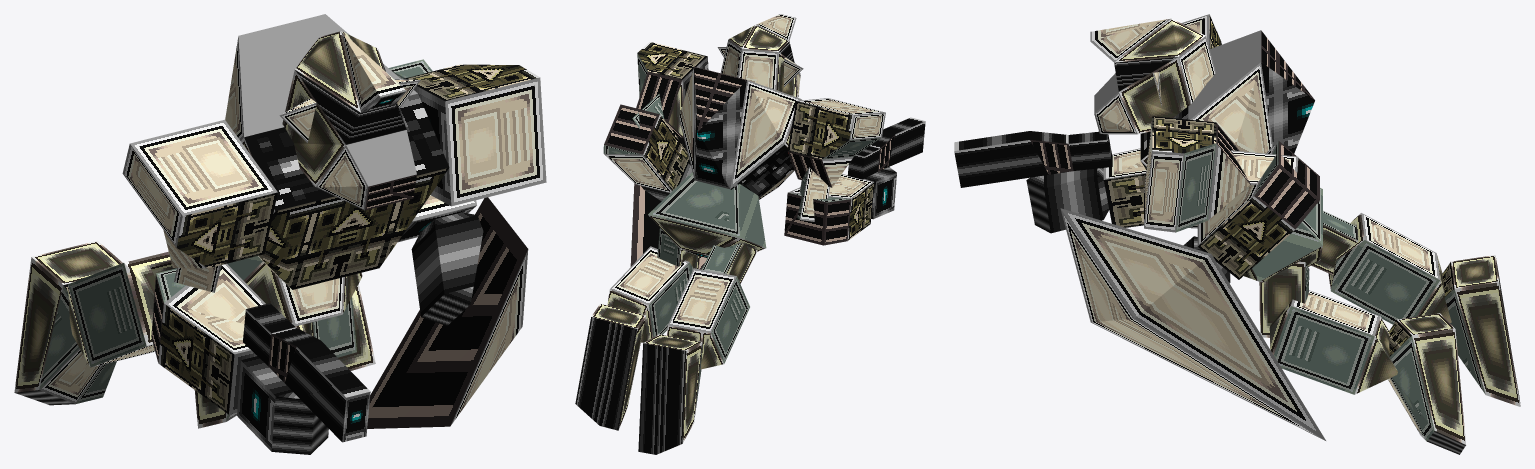
File: shogun_warrior.fbx
The picture shows the model from 3 angles, left to right: view 1: azimuth 30°, elevation 25°; view 2: azimuth 150°, elevation 25°; view 3: azimuth 270°, elevation 25°; orthographic projection. The views are drawn at different scales.
Parts seen in each view (by area): view 1: Shogun_Warrior.001; view 2: Shogun_Warrior.001; view 3: Shogun_Warrior.001.
Part boxes in pixels (x1,y1,x2,y2): Shogun_Warrior.001: [14, 14, 546, 454]; Shogun_Warrior.001: [575, 14, 925, 454]; Shogun_Warrior.001: [954, 14, 1520, 454].
Bounding box in the file's own units: 3692 × 5124 × 6346.
Materials: 10 (10 with a texture image).
